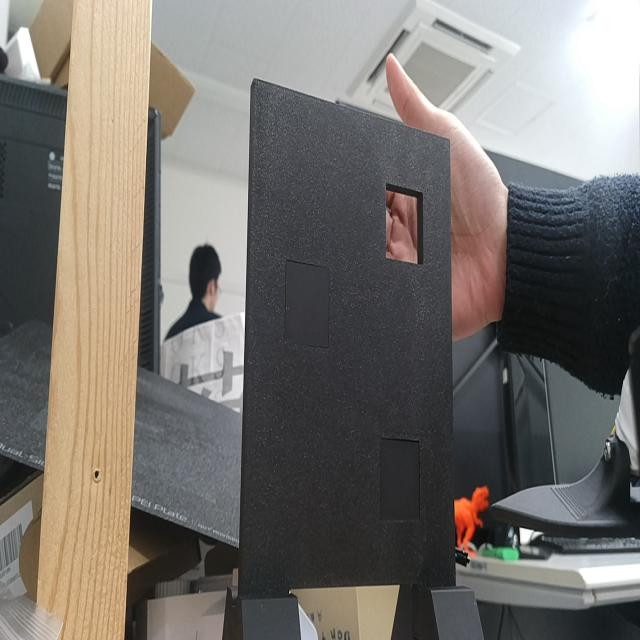Obstacle: (387, 184, 422, 262)
Wall: (244, 80, 457, 586)
